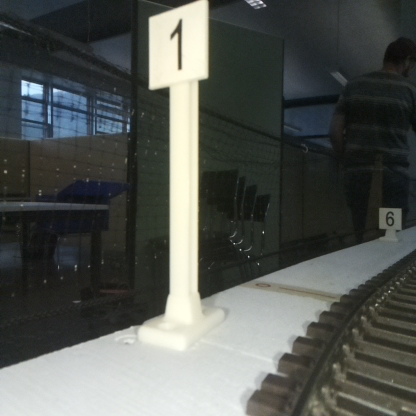white-info-1: (151, 2, 205, 338)
white-stop-6: (379, 207, 401, 240)
